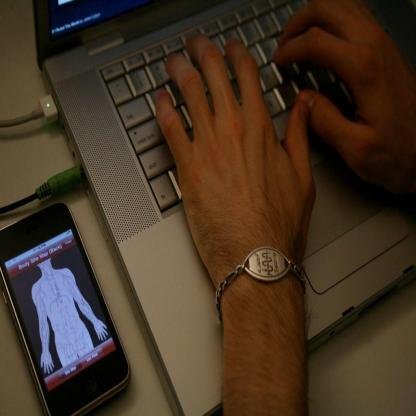board: (30, 0, 415, 415)
